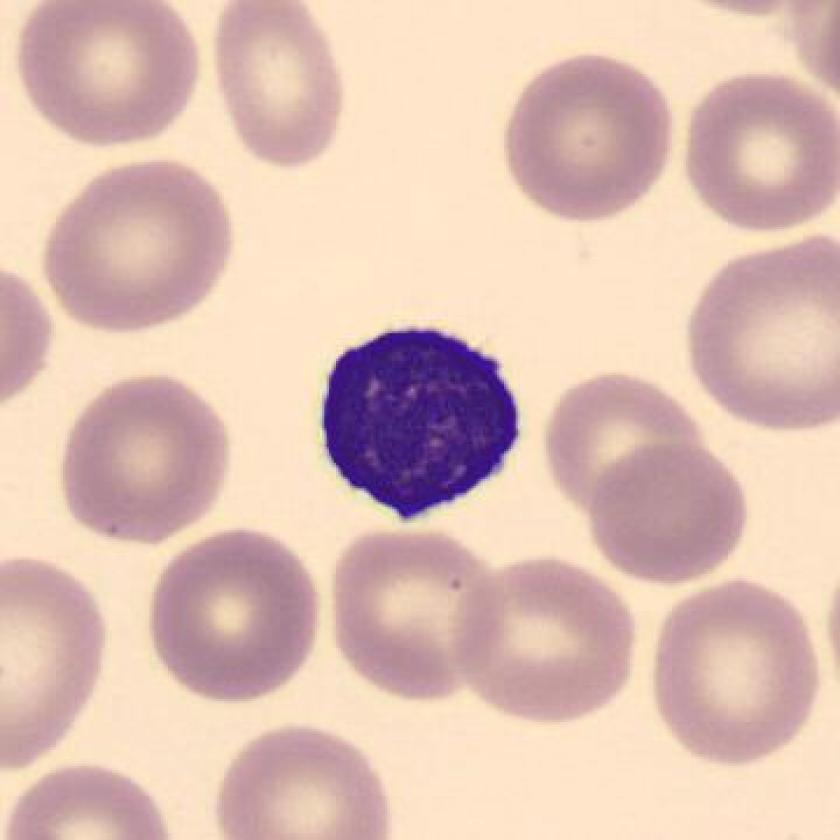lymphocyte: (293, 302, 545, 535)
